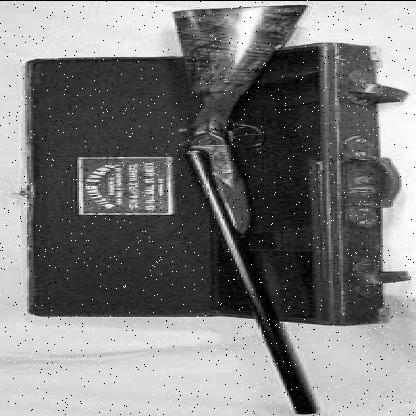rifle: (98, 3, 358, 414)
